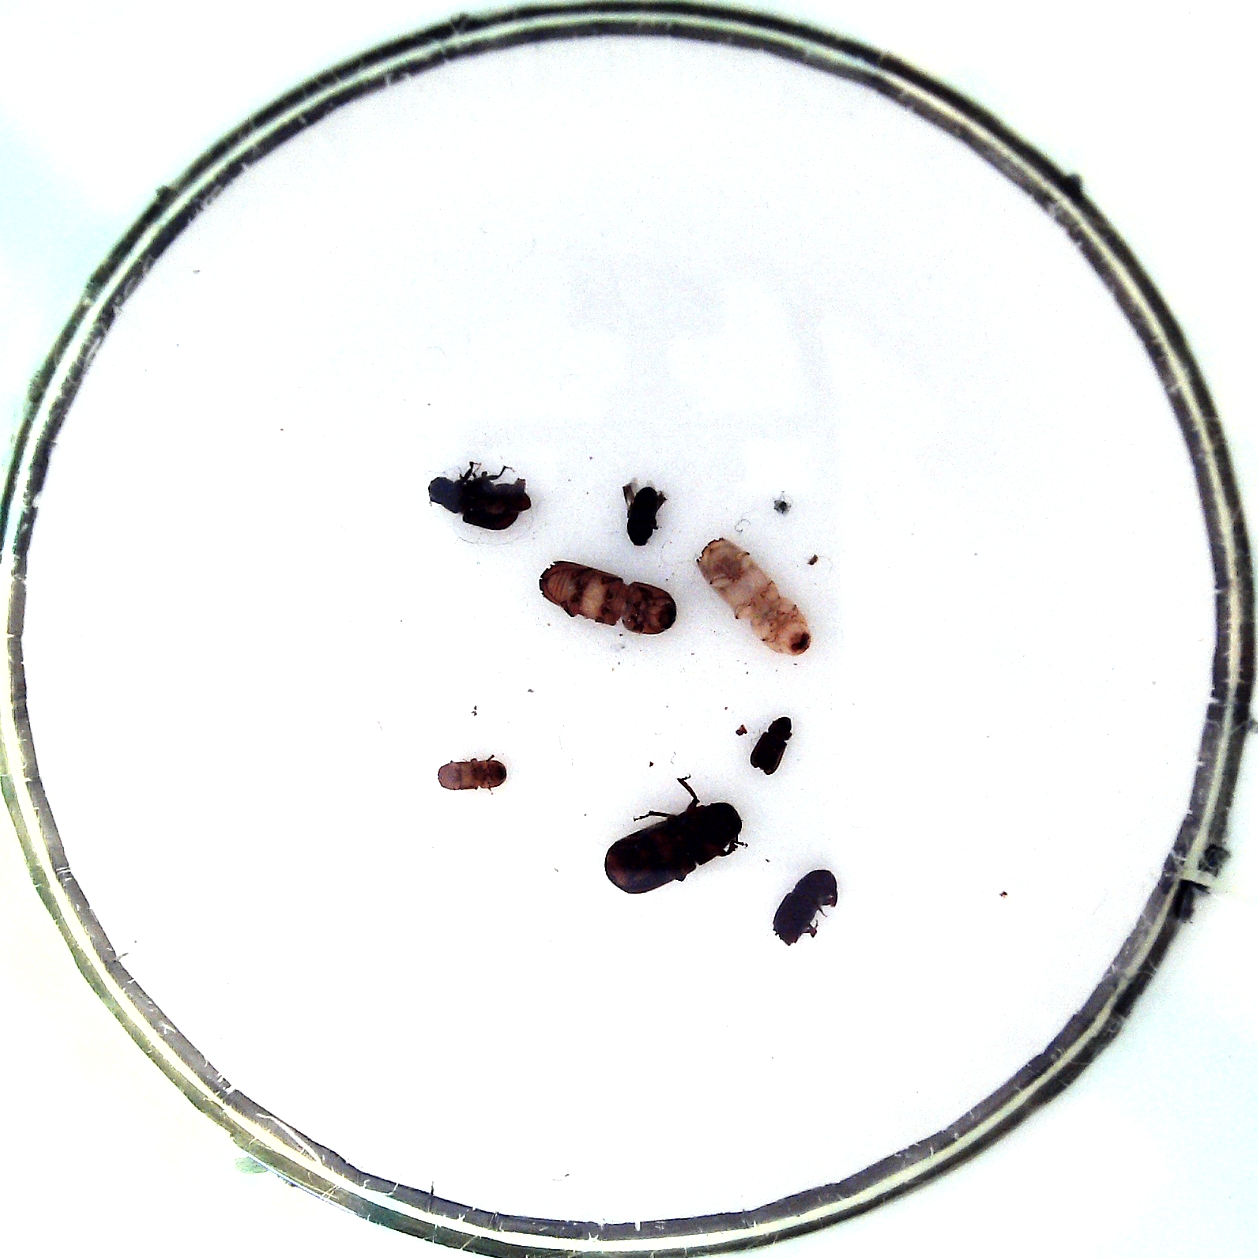Boerner: (696, 538, 811, 655), (538, 561, 677, 634)
Leconte: (604, 803, 743, 894)
acuminatus: (626, 487, 658, 546)
armandi: (429, 476, 531, 530)
coleoptera: (750, 717, 791, 775), (438, 758, 507, 790)
linnaeus: (773, 870, 838, 946)
